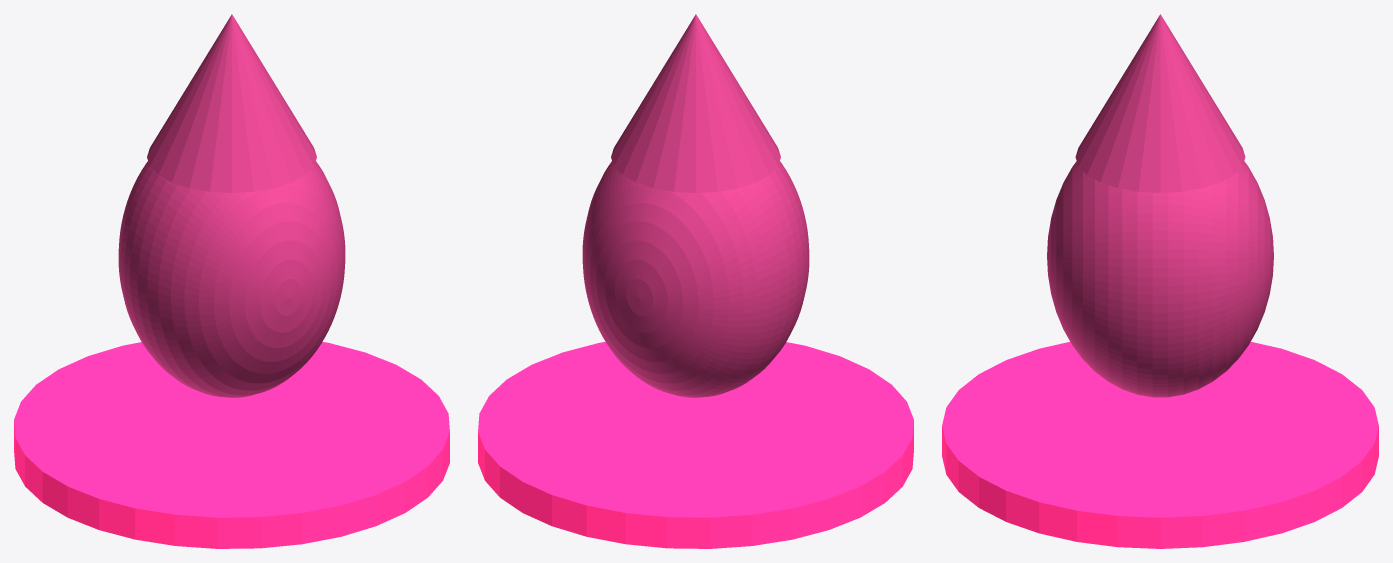
Rendered from beauty_beauty_blender.dae.
3 views of the same model, side by side, from view 1: azimuth 30°, elevation 25°; view 2: azimuth 150°, elevation 25°; view 3: azimuth 270°, elevation 25° (orthographic).
Visible parts, largest first — view 1: 03_11_Popular_Beauty_Beauty_Blender_ROOT_base, 03_11_Popular_Beauty_Beauty_Blender_part_01, 03_11_Popular_Beauty_Beauty_Blender_part_02; view 2: 03_11_Popular_Beauty_Beauty_Blender_ROOT_base, 03_11_Popular_Beauty_Beauty_Blender_part_01, 03_11_Popular_Beauty_Beauty_Blender_part_02; view 3: 03_11_Popular_Beauty_Beauty_Blender_ROOT_base, 03_11_Popular_Beauty_Beauty_Blender_part_01, 03_11_Popular_Beauty_Beauty_Blender_part_02.
Boxes of the visible parts, box(x1,y1,x2,y2) form: 03_11_Popular_Beauty_Beauty_Blender_ROOT_base: box(14, 342, 449, 548); 03_11_Popular_Beauty_Beauty_Blender_part_01: box(118, 161, 345, 397); 03_11_Popular_Beauty_Beauty_Blender_part_02: box(147, 14, 316, 192); 03_11_Popular_Beauty_Beauty_Blender_ROOT_base: box(478, 342, 913, 548); 03_11_Popular_Beauty_Beauty_Blender_part_01: box(582, 161, 809, 397); 03_11_Popular_Beauty_Beauty_Blender_part_02: box(611, 14, 780, 192); 03_11_Popular_Beauty_Beauty_Blender_ROOT_base: box(942, 342, 1378, 548); 03_11_Popular_Beauty_Beauty_Blender_part_01: box(1047, 161, 1273, 397); 03_11_Popular_Beauty_Beauty_Blender_part_02: box(1075, 14, 1245, 192).
Size of the model in its own units: 0.76 by 0.85 by 0.76.
